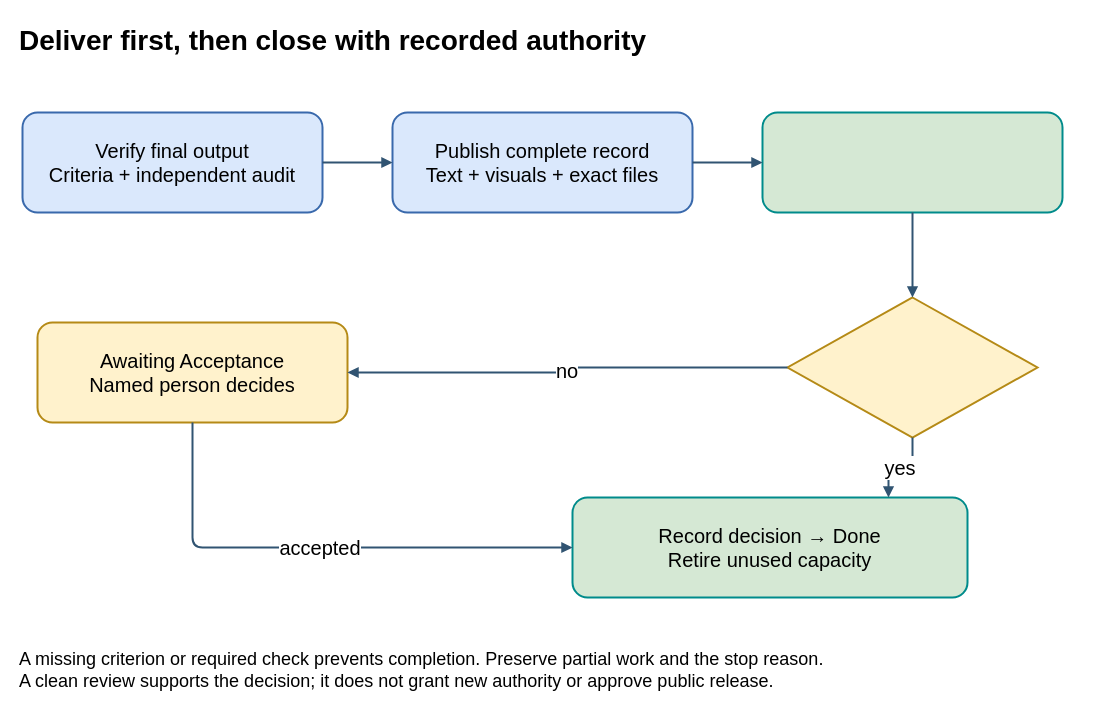
This 1094x724 diagram has some shape labels left out. Here are the shapes that lost their labels. From the top down, the centre of each, then its label:
At point (912, 162): "Retrieve and check Saved pages + exact files".
At point (912, 367): "Authority to close recorded?".
